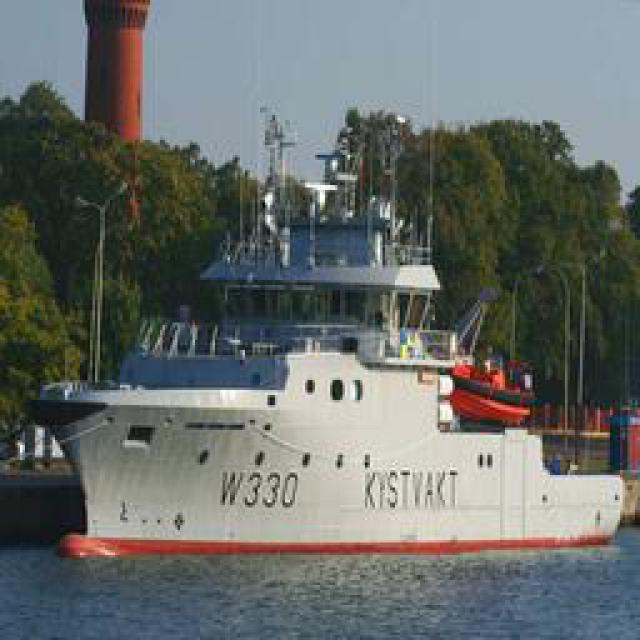Ship: (27, 165, 627, 558)
